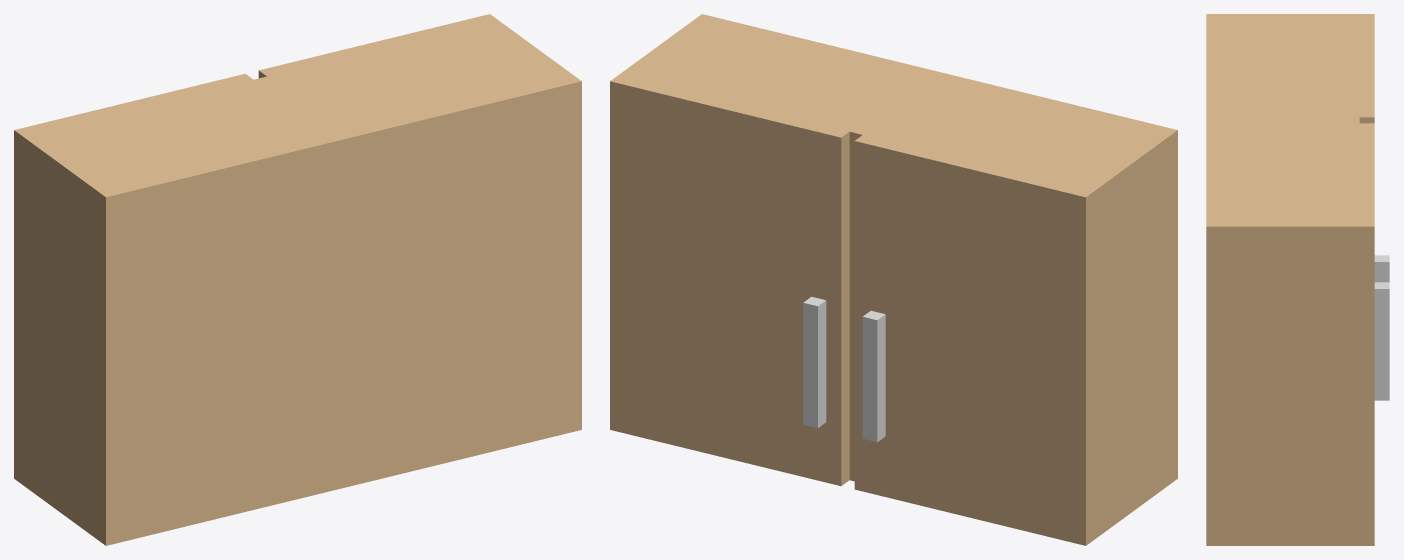
File: Cupboard.fbx
3 renders of one model, left to right at view 1: azimuth 30°, elevation 25°; view 2: azimuth 150°, elevation 25°; view 3: azimuth 270°, elevation 25°, orthographic. The views are drawn at different scales.
Visible parts, largest first — view 1: Box001; view 2: Box001; view 3: Box001.
Boxes of the visible parts, x1,y1,x2,y2 form: Box001: [14, 14, 581, 545]; Box001: [610, 14, 1177, 545]; Box001: [1206, 14, 1389, 545].
Bounding box in the file's own units: 100 × 70 × 36.47.
